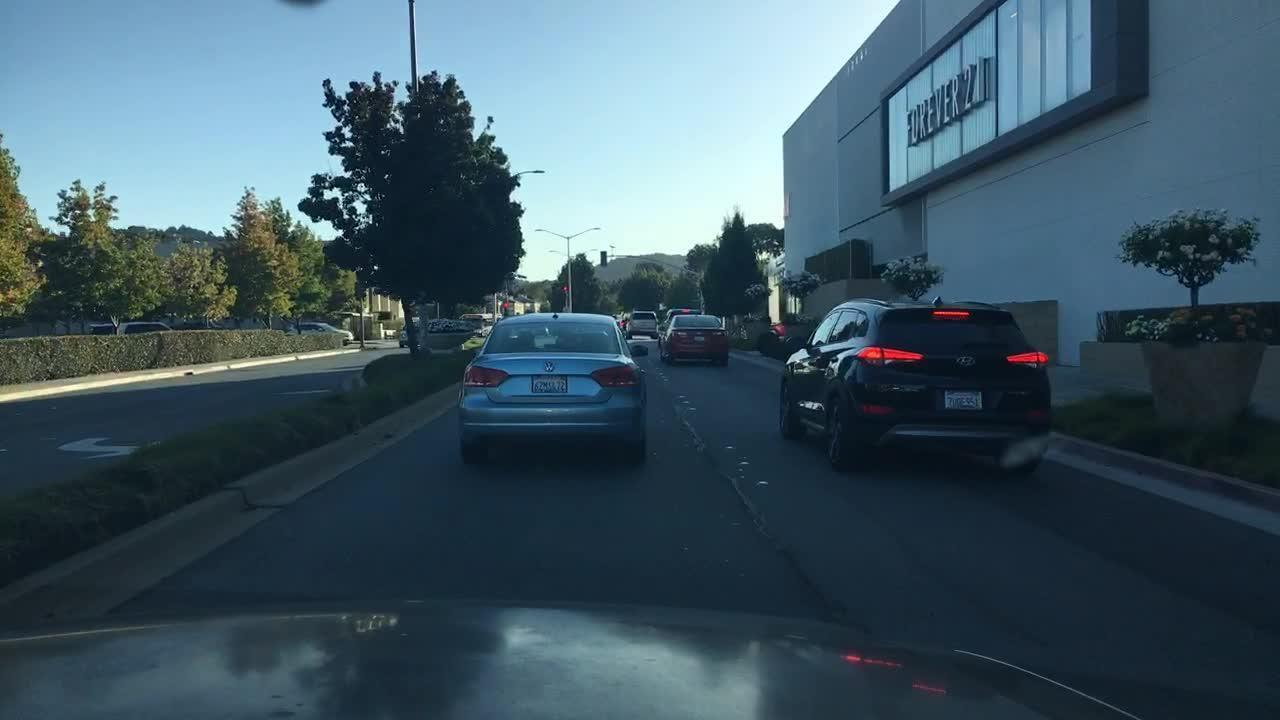Hyundai: (952, 356, 980, 369)
Volkswagen: (541, 355, 563, 376)
